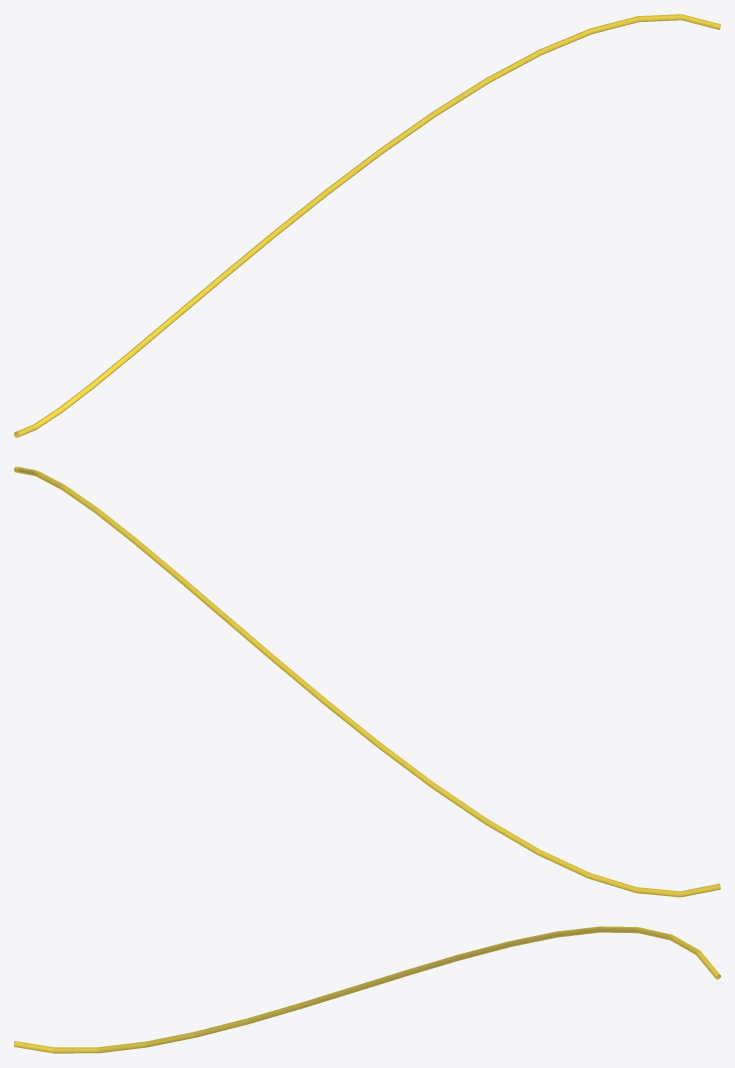
Rendered from Event_17758602_track_46.fbx.
The picture shows the model from 3 angles, top to bottom: view 1: azimuth 30°, elevation 25°; view 2: azimuth 150°, elevation 25°; view 3: azimuth 330°, elevation 25°; orthographic projection.
Parts seen in each view (by area): view 1: Model; view 2: Model; view 3: Model.
Part boxes in pixels (box(x1,y1,x2,y2)): Model: box(14, 14, 720, 437); Model: box(14, 466, 720, 897); Model: box(14, 926, 720, 1053).
Bounding box in the file's own units: 5.29 × 1.89 × 0.6121.
